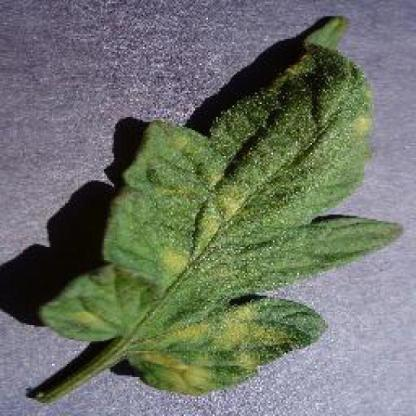Tomato_Leaf_Mold: (70, 115, 390, 392)
